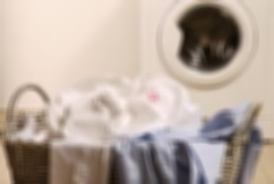lipstick: (145, 88, 162, 105)
